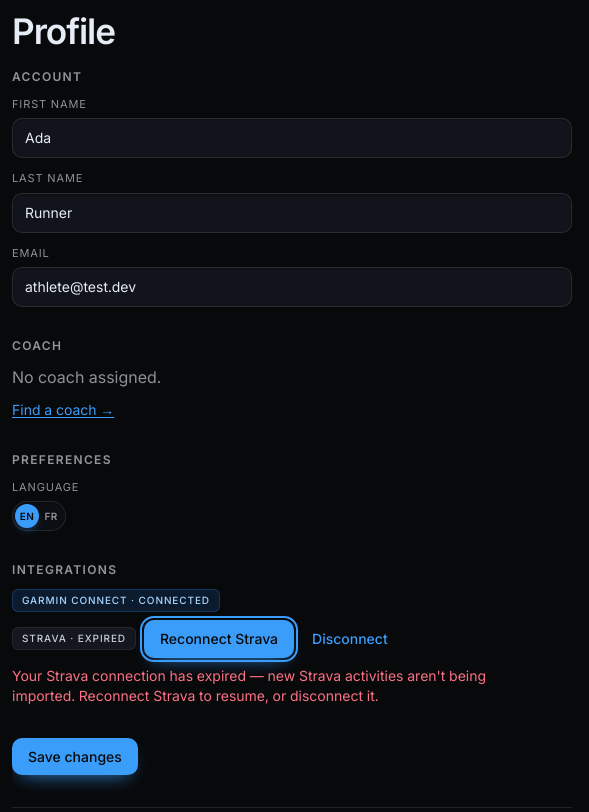
Test case: ProfileView — connexion Strava à renouveler › T21 — la reconnexion relance l’autorisation ; un échec est annoncé
Click the button "Reconnect Strava". click: (219, 639)
box: [144,620,294,658]
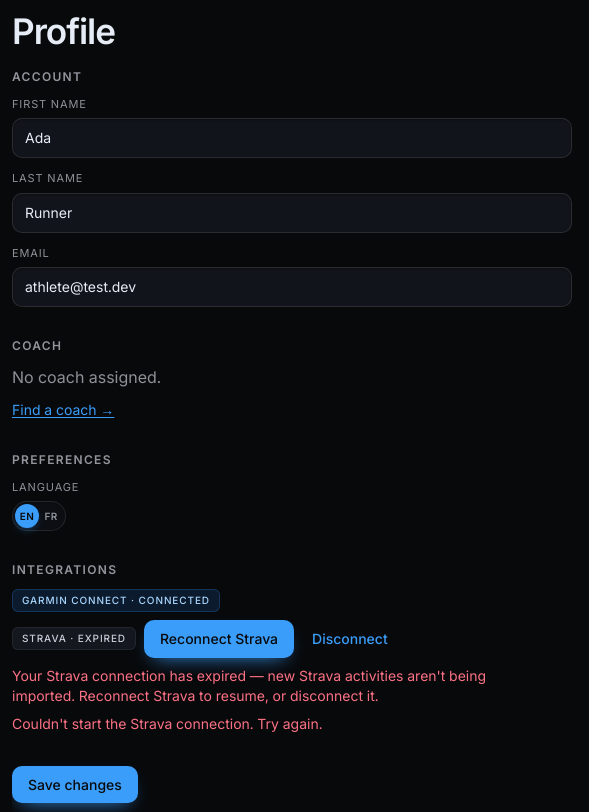
Expected: the text "Couldn't start the Strava connection. Try again." is shown, [12,715,322,732]
